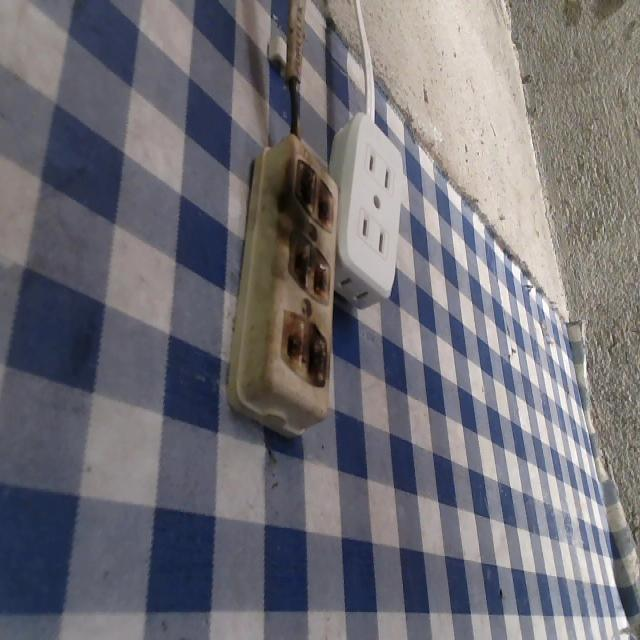-: (278, 307, 336, 405), (282, 153, 342, 224), (287, 230, 335, 302)
